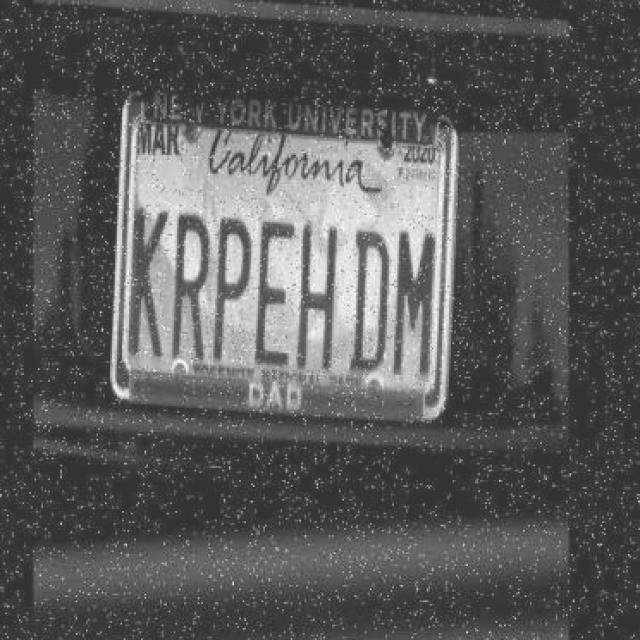licenseplate: (99, 38, 469, 475)
